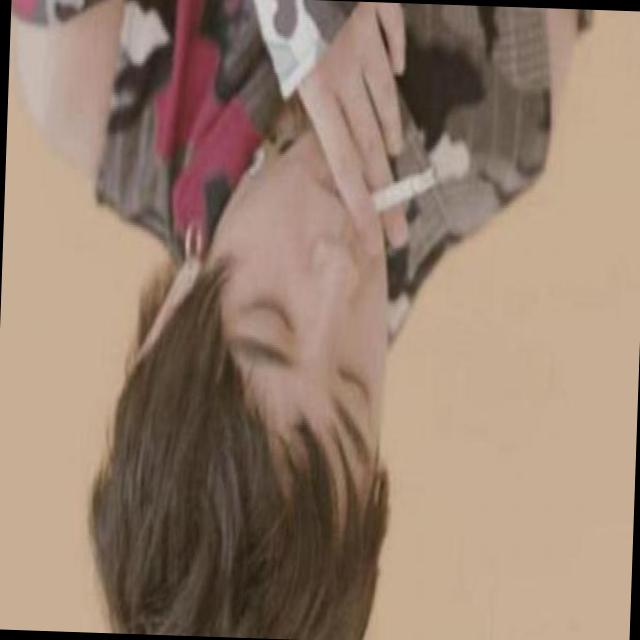smoke: (278, 12, 444, 222)
